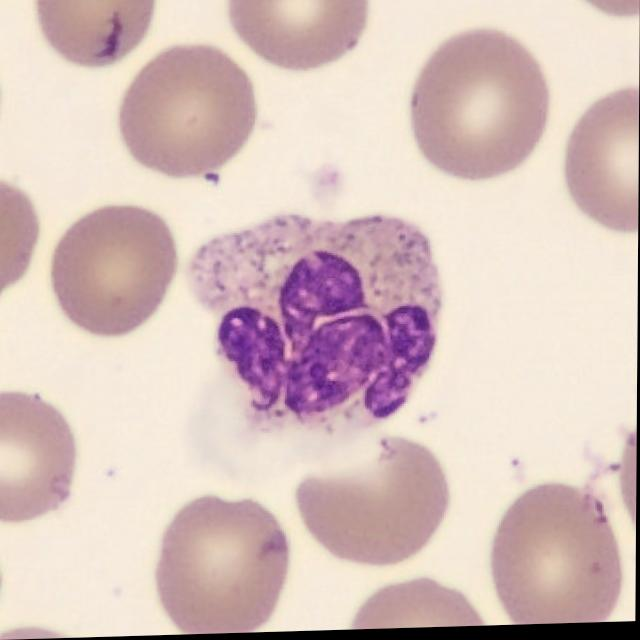Neutrofilo segmentado: (190, 217, 443, 433)
